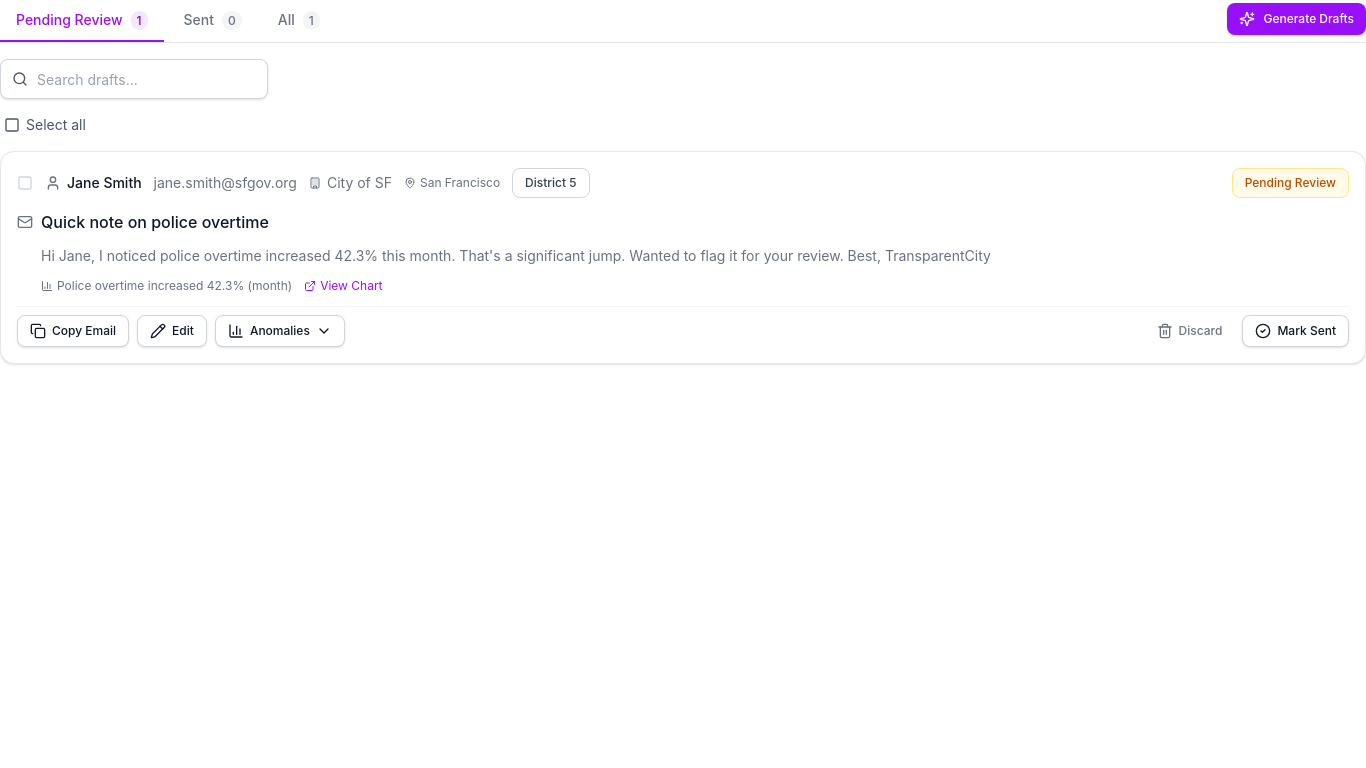
Test case: ReviewAndSend › closes edit dialog on cancel without saving
Click the button "Edit" at (172, 331), box [137,315,207,347]
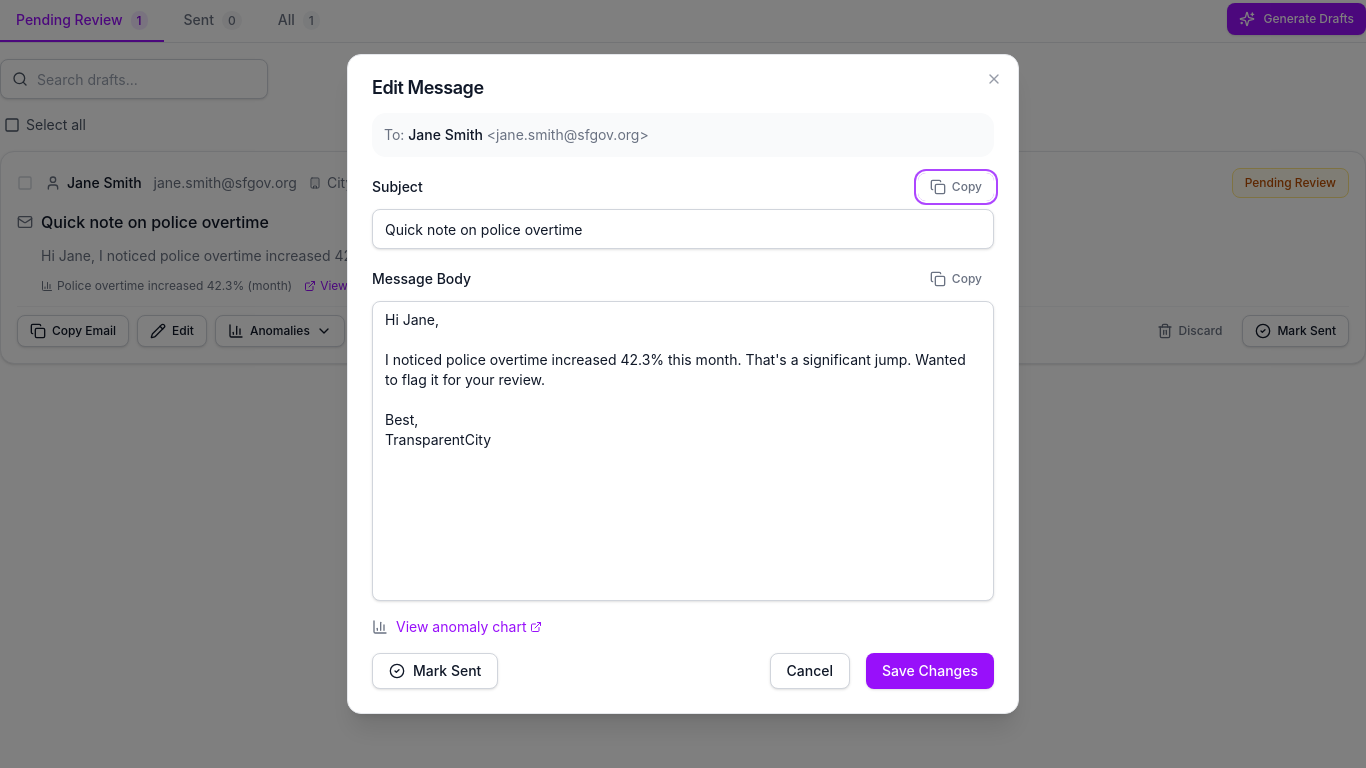
Expected: the heading "Edit Message" is shown, [372,77,484,98]
Click the button "Cancel" at (810, 671), box [770,653,850,689]
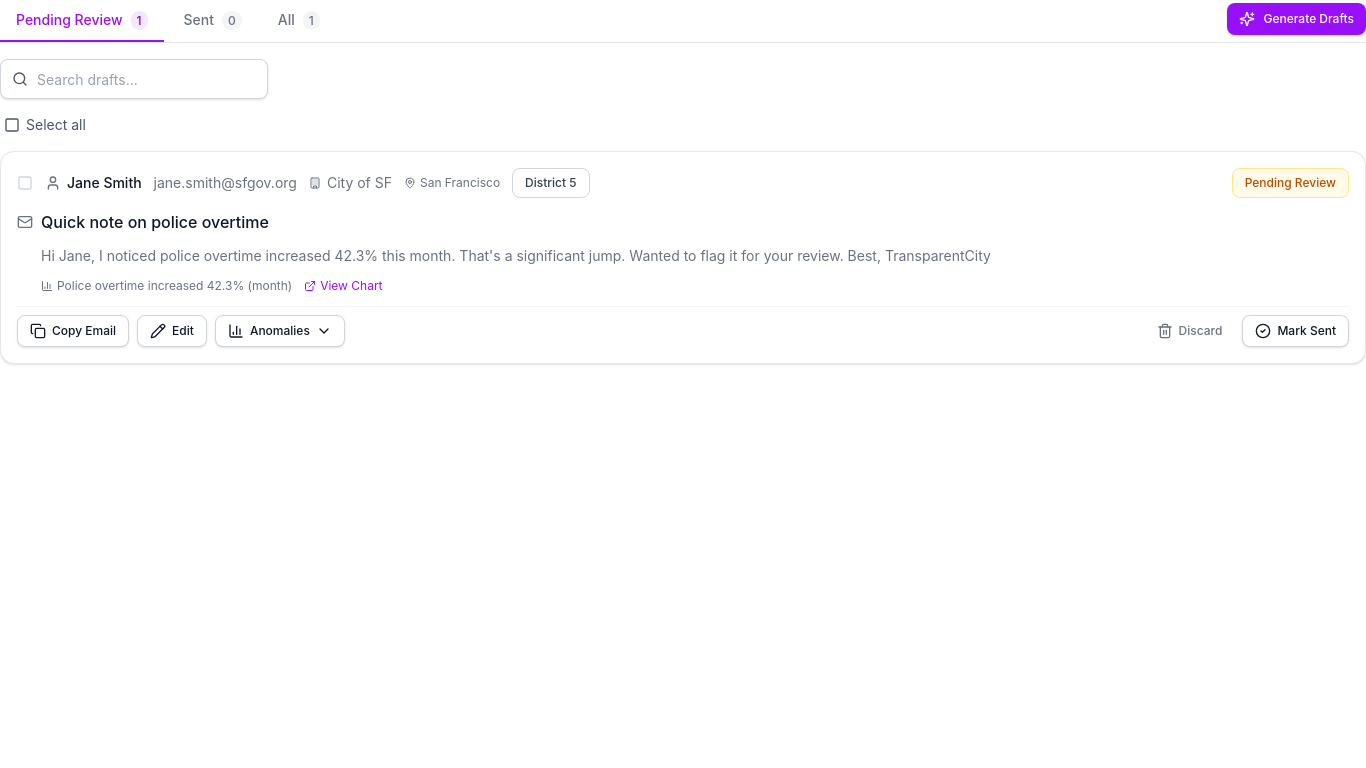
Expected: the heading "Edit Message" is gone
